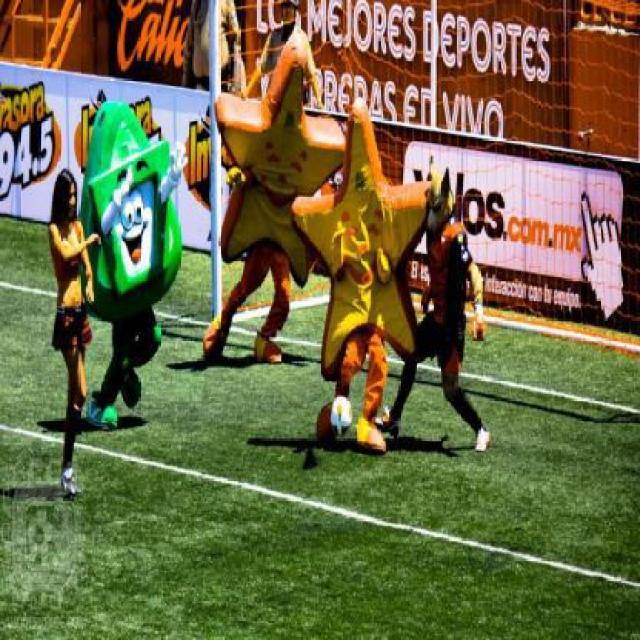Person: (44, 145, 88, 481)
